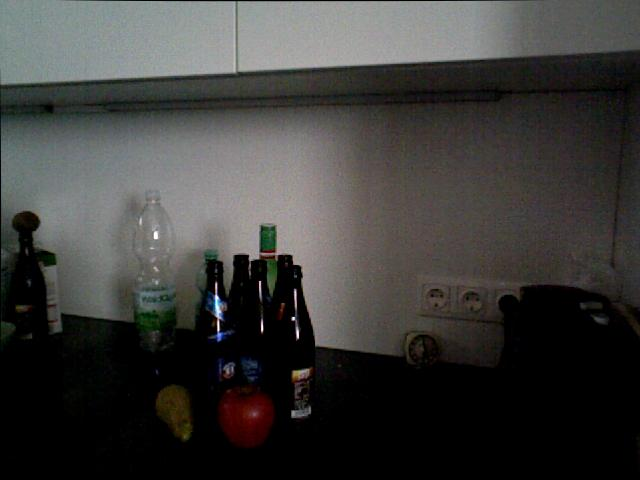bench: (193, 258, 240, 421), (131, 188, 177, 354), (274, 264, 316, 428), (265, 251, 304, 414), (222, 250, 263, 402), (240, 258, 279, 413), (8, 229, 48, 361), (252, 222, 280, 393), (192, 247, 229, 357), (25, 244, 63, 339)
bicycle: (217, 384, 275, 448)
giraffe: (400, 328, 445, 375)
